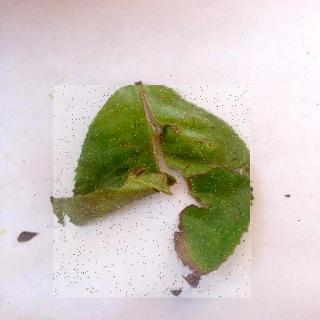Brown Blight: (55, 86, 253, 298)
